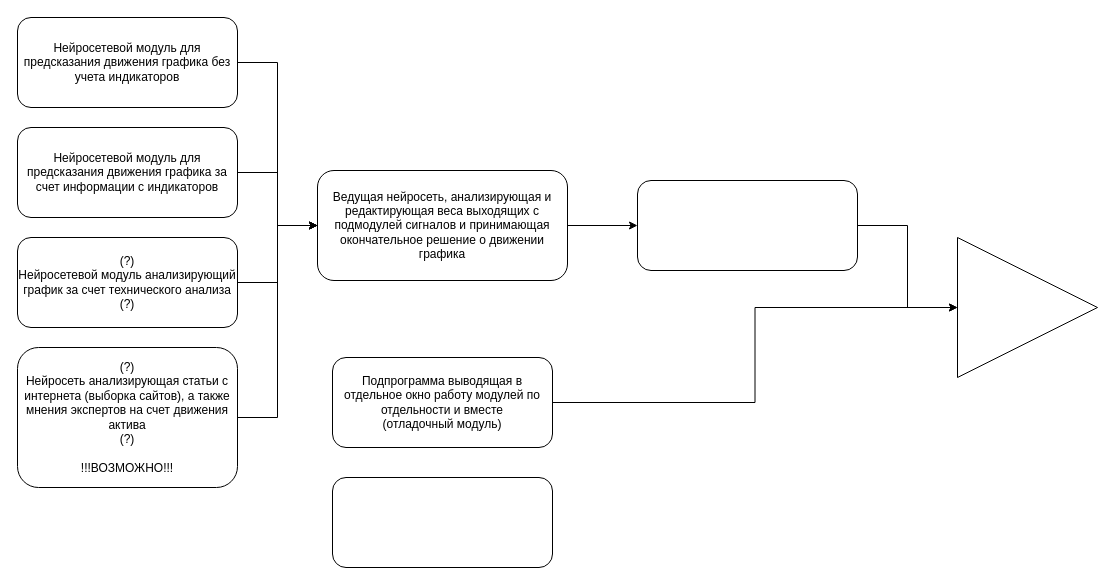
This 1115x585 diagram has some shape labels left out. The centre of each missing label's shape, as x and y in pixels:
"Программа для открытия сделок на основе API Okex" belongs at pixel 747 225.
"Телеграм бот для сообщения о принятых решениях и открытых сделках" belongs at pixel 442 522.
